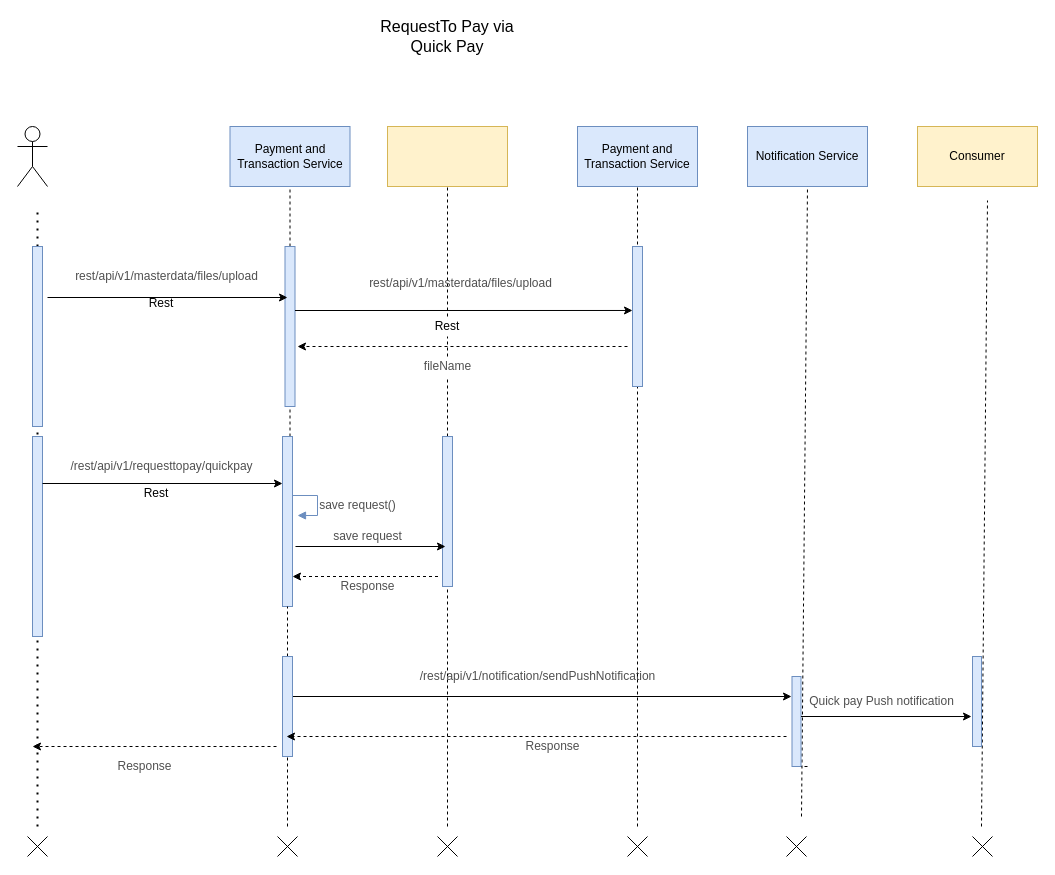
Image size: 1055x875. Some labels were removed from this diagram. The shapes that lost their labels are listed below. From the top down, each one's centre as x and y in pixels, then its label:
At [32,156]: "Actor".
At [447,156]: "Mongodb".
